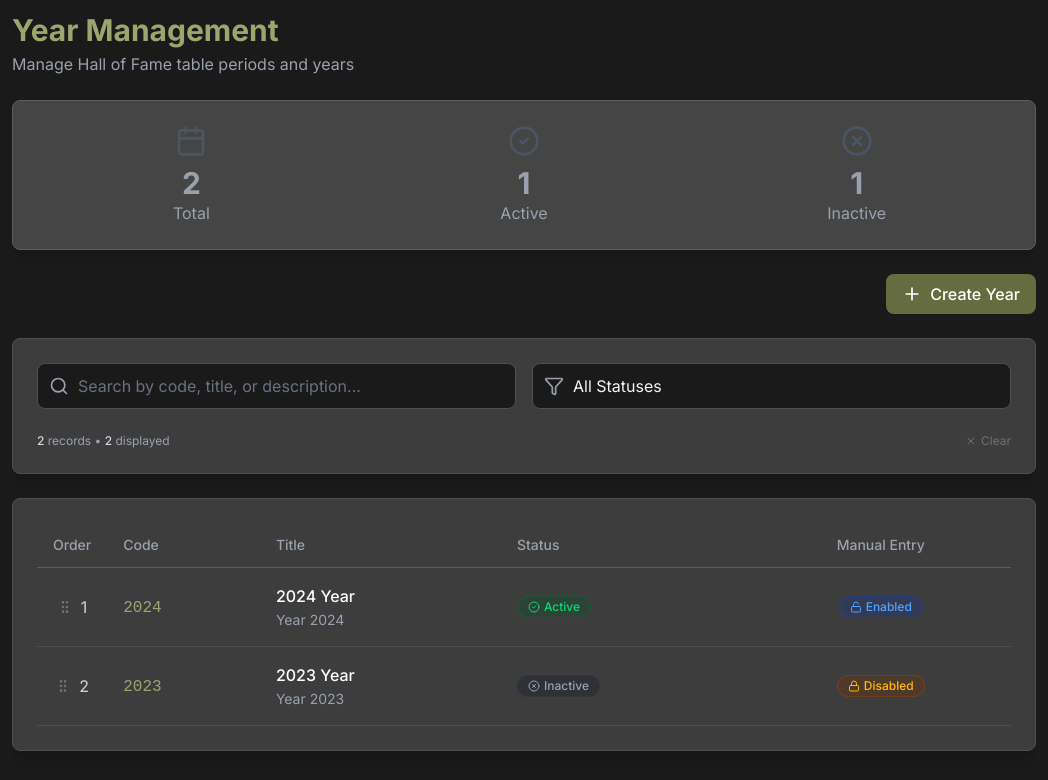
Test: YearManagement › filters years by status
The image size is (1048, 780).
Expected: the text "2024 Year" is shown, 276,586 -> 355,606
Select "Active" in the dropdown showing "All Statuses" at (772, 386), box 532,363 -> 1011,409
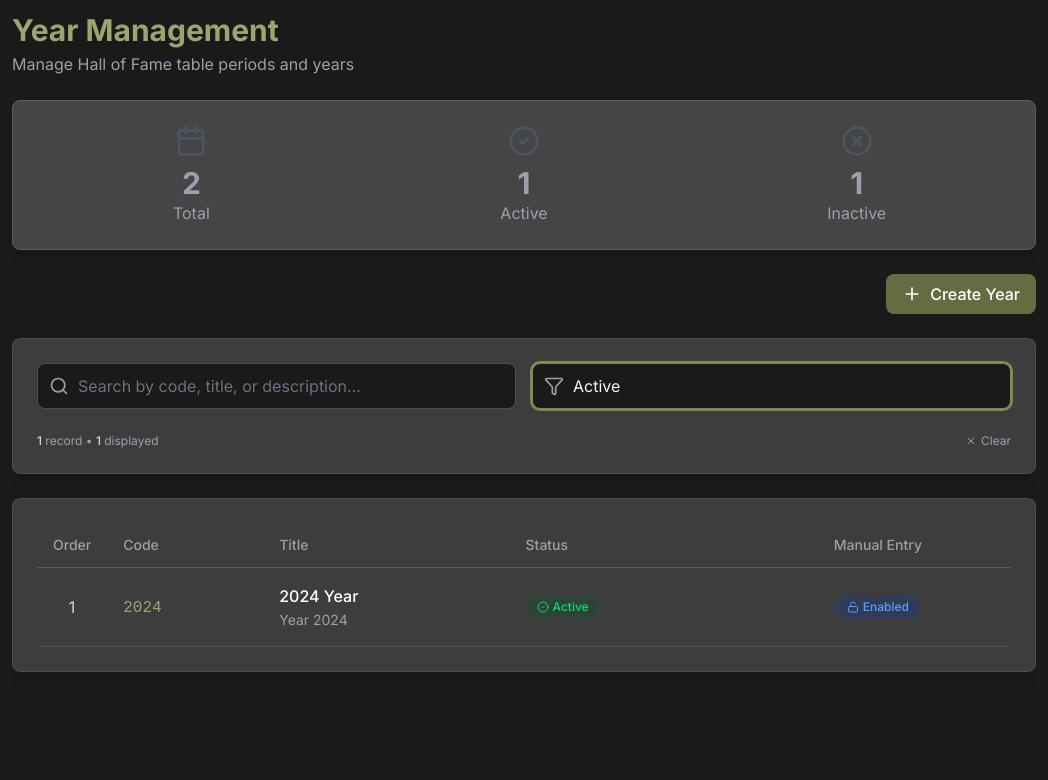
Expected: the text "2024 Year" is shown, 279,586 -> 358,606
Now the text "2023 Year" is gone
